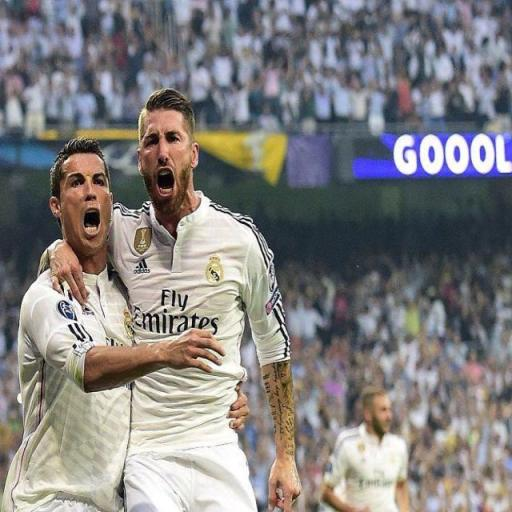Adidas: (132, 256, 151, 277)
Emirates: (130, 286, 221, 338)
